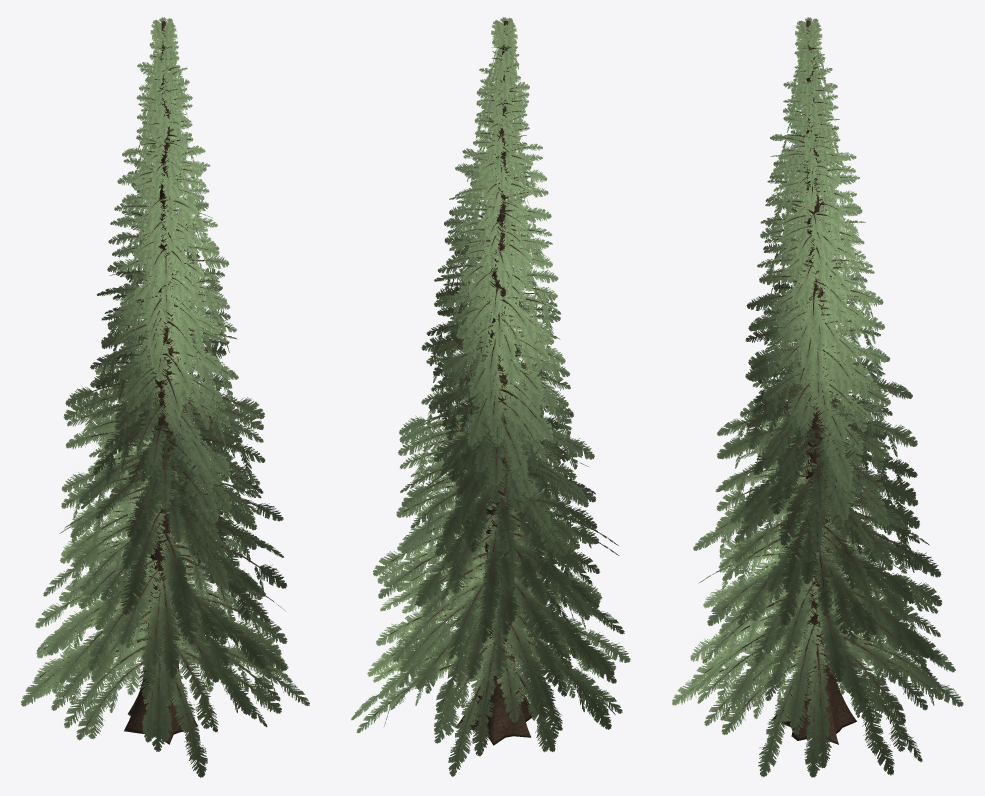
Rendered from baldcypress_v03.fbx.
3 renders of one model, left to right at view 1: azimuth 30°, elevation 25°; view 2: azimuth 150°, elevation 25°; view 3: azimuth 270°, elevation 25°, orthographic.
Visible parts, largest first — view 1: baldcypress_v03; view 2: baldcypress_v03; view 3: baldcypress_v03.
Boxes of the visible parts, x1,y1,x2,y2 form: baldcypress_v03: (21, 17, 309, 777); baldcypress_v03: (351, 17, 630, 776); baldcypress_v03: (672, 17, 963, 777).
Bounding box in the file's own units: 1188 × 1174 × 3021.
2 materials, 2 textured.
